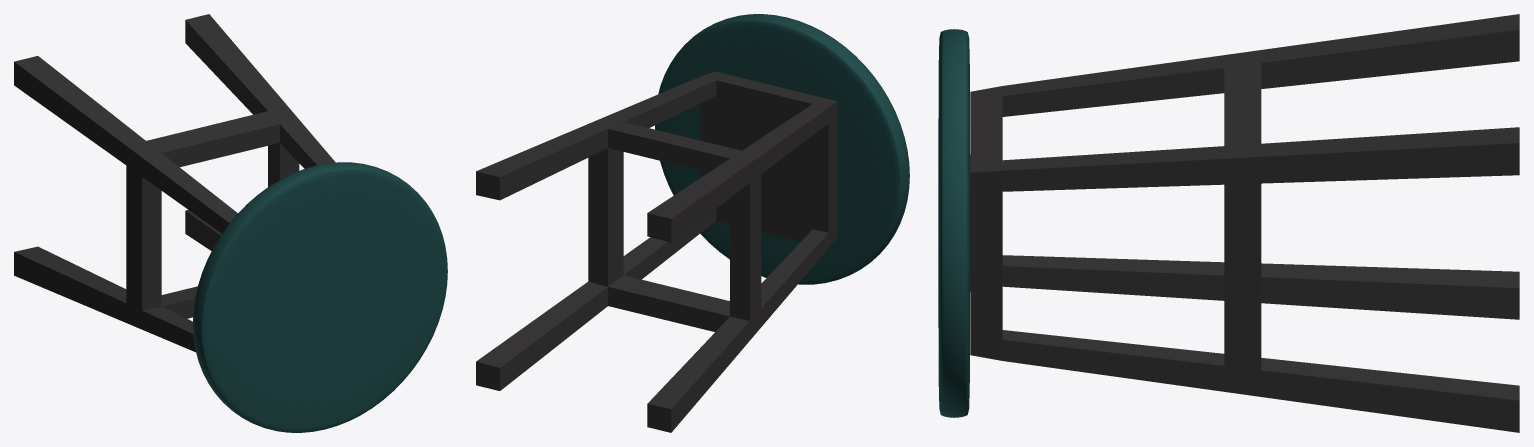
File: KitchenChair02.fbx
3 views of the same model, side by side, from view 1: azimuth 30°, elevation 25°; view 2: azimuth 150°, elevation 25°; view 3: azimuth 270°, elevation 25° (orthographic). The views are drawn at different scales.
Visible parts, largest first — view 1: StoolSeat, StoolBase; view 2: StoolBase, StoolSeat; view 3: StoolBase, StoolSeat.
Part boxes in pixels (x1,y1,x2,y2): StoolSeat: (193, 162, 447, 432); StoolBase: (14, 14, 335, 352); StoolBase: (476, 71, 837, 432); StoolSeat: (655, 14, 909, 284); StoolBase: (970, 14, 1519, 432); StoolSeat: (938, 29, 970, 417).
Size of the model in its own units: 34215 by 34215 by 51137.
1 material, 1 textured.
